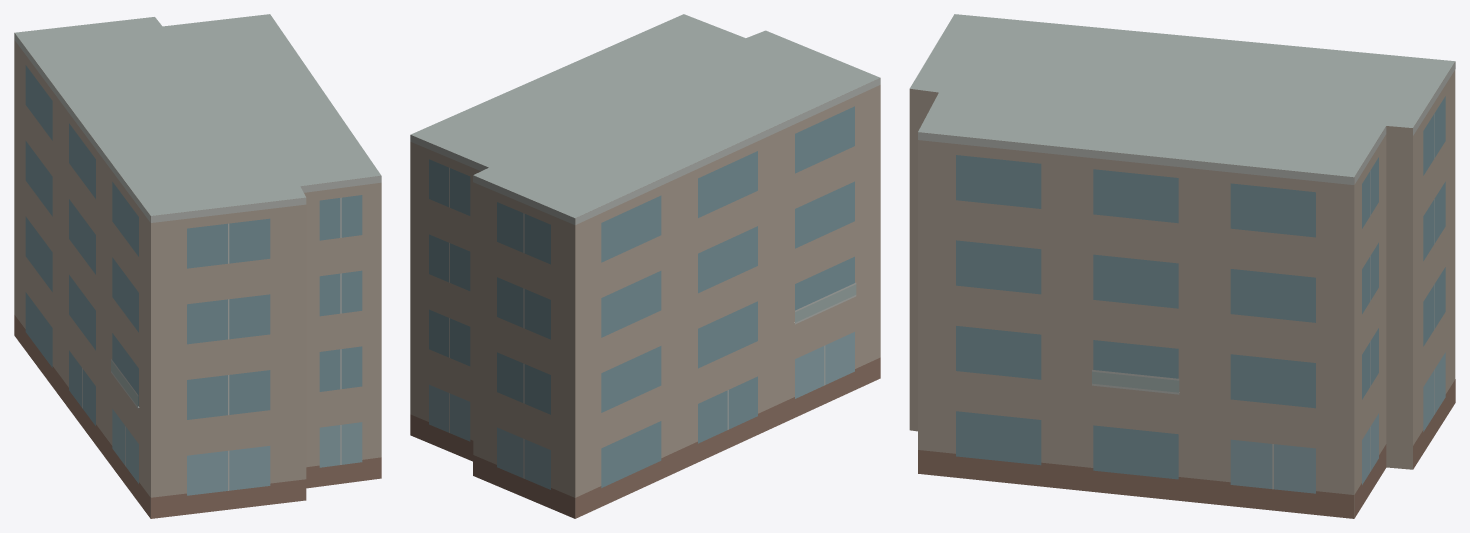
The model's file is survey-upis-32979976.glb.
3 views of the same model, side by side, from view 1: azimuth 30°, elevation 25°; view 2: azimuth 150°, elevation 25°; view 3: azimuth 270°, elevation 25° (orthographic). The views are drawn at different scales.
Parts seen in each view (by area): view 1: survey-upis-32979976.tmp; view 2: survey-upis-32979976.tmp; view 3: survey-upis-32979976.tmp.
Boxes of the visible parts, box(x1,y1,x2,y2) form: survey-upis-32979976.tmp: box(14, 14, 381, 518); survey-upis-32979976.tmp: box(410, 14, 880, 518); survey-upis-32979976.tmp: box(909, 14, 1455, 518).
Size of the model in its own units: 10.77 by 10.5 by 15.22.
